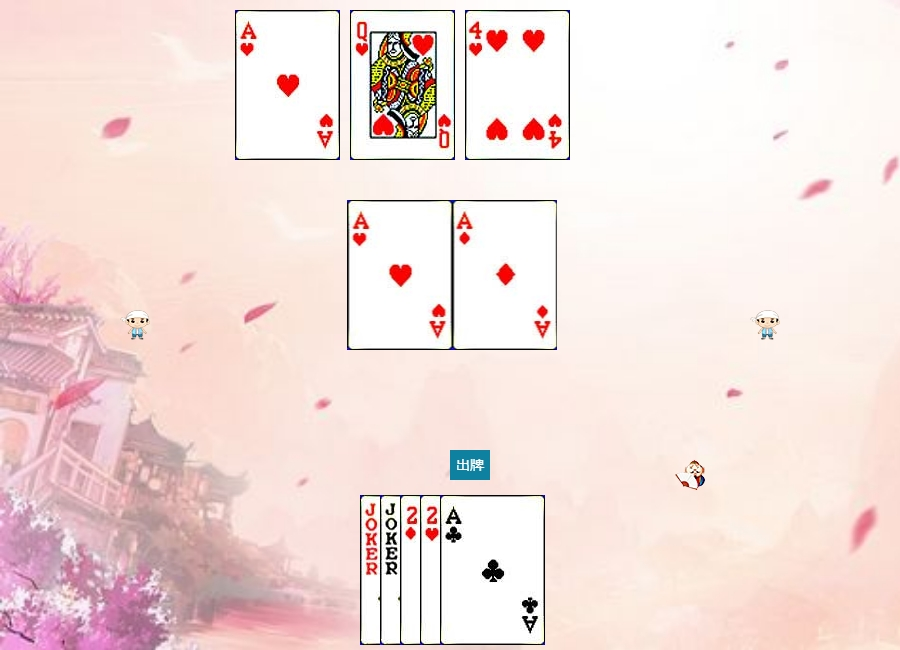12~3: (350, 10, 455, 160)
14~1: (453, 200, 558, 350)
14~2: (440, 495, 545, 645)
14~3: (235, 10, 340, 160), (348, 200, 453, 350)
15~1: (400, 495, 505, 645)
15~3: (420, 495, 525, 645)
17~3: (380, 495, 485, 645)
18~4: (360, 495, 465, 645)
4~3: (465, 10, 570, 160)
